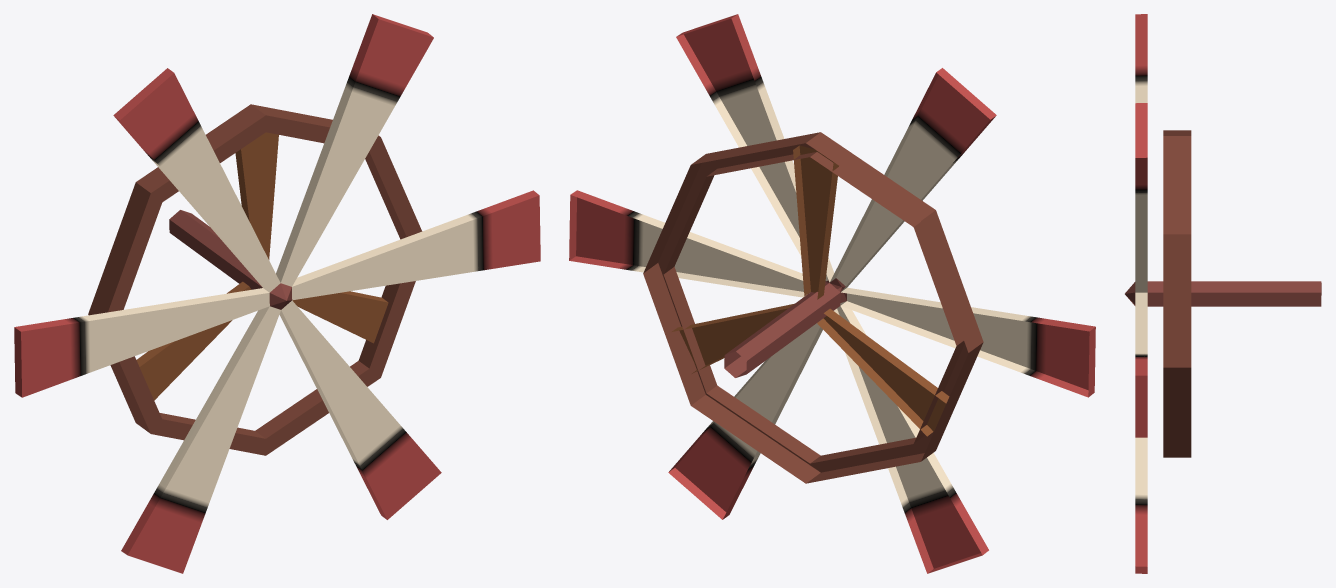
The model's file is Sce_maincity_windmill_fengche_tou_01.FBX.
The picture shows the model from 3 angles, left to right: view 1: azimuth 30°, elevation 25°; view 2: azimuth 150°, elevation 25°; view 3: azimuth 270°, elevation 25°; orthographic projection. The views are drawn at different scales.
Visible parts, largest first — view 1: fengche_tou; view 2: fengche_tou; view 3: fengche_tou.
Part boxes in pixels (x1,y1,x2,y2): fengche_tou: (14,14,540,573); fengche_tou: (569,14,1095,573); fengche_tou: (1125,14,1321,573).
Size of the model in its own units: 10.8 by 10.07 by 3.82.
Materials: 1 (1 with a texture image).
